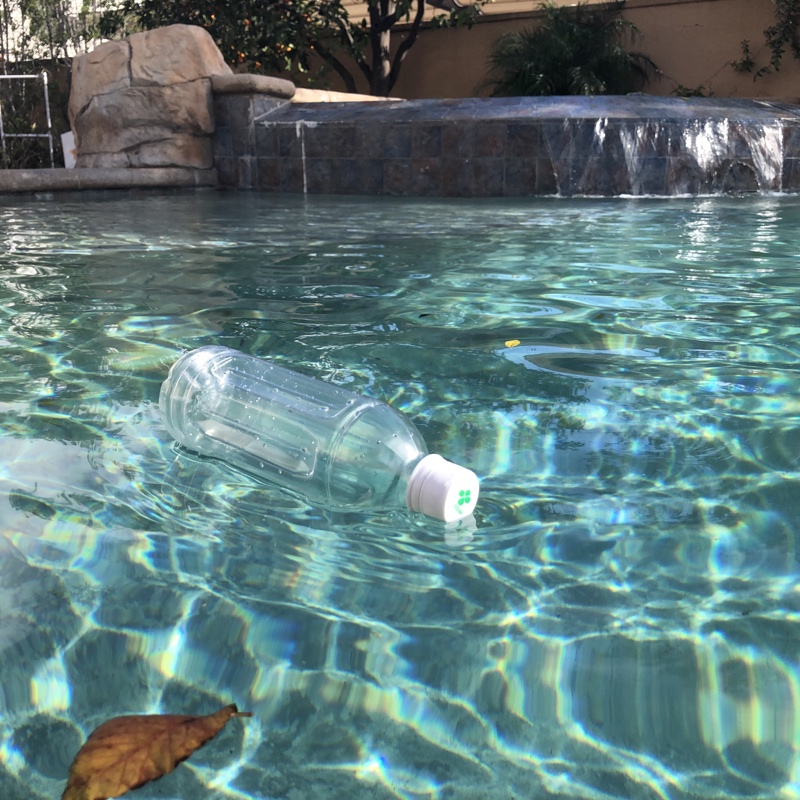Plastic Bottle: (152, 342, 483, 526)
